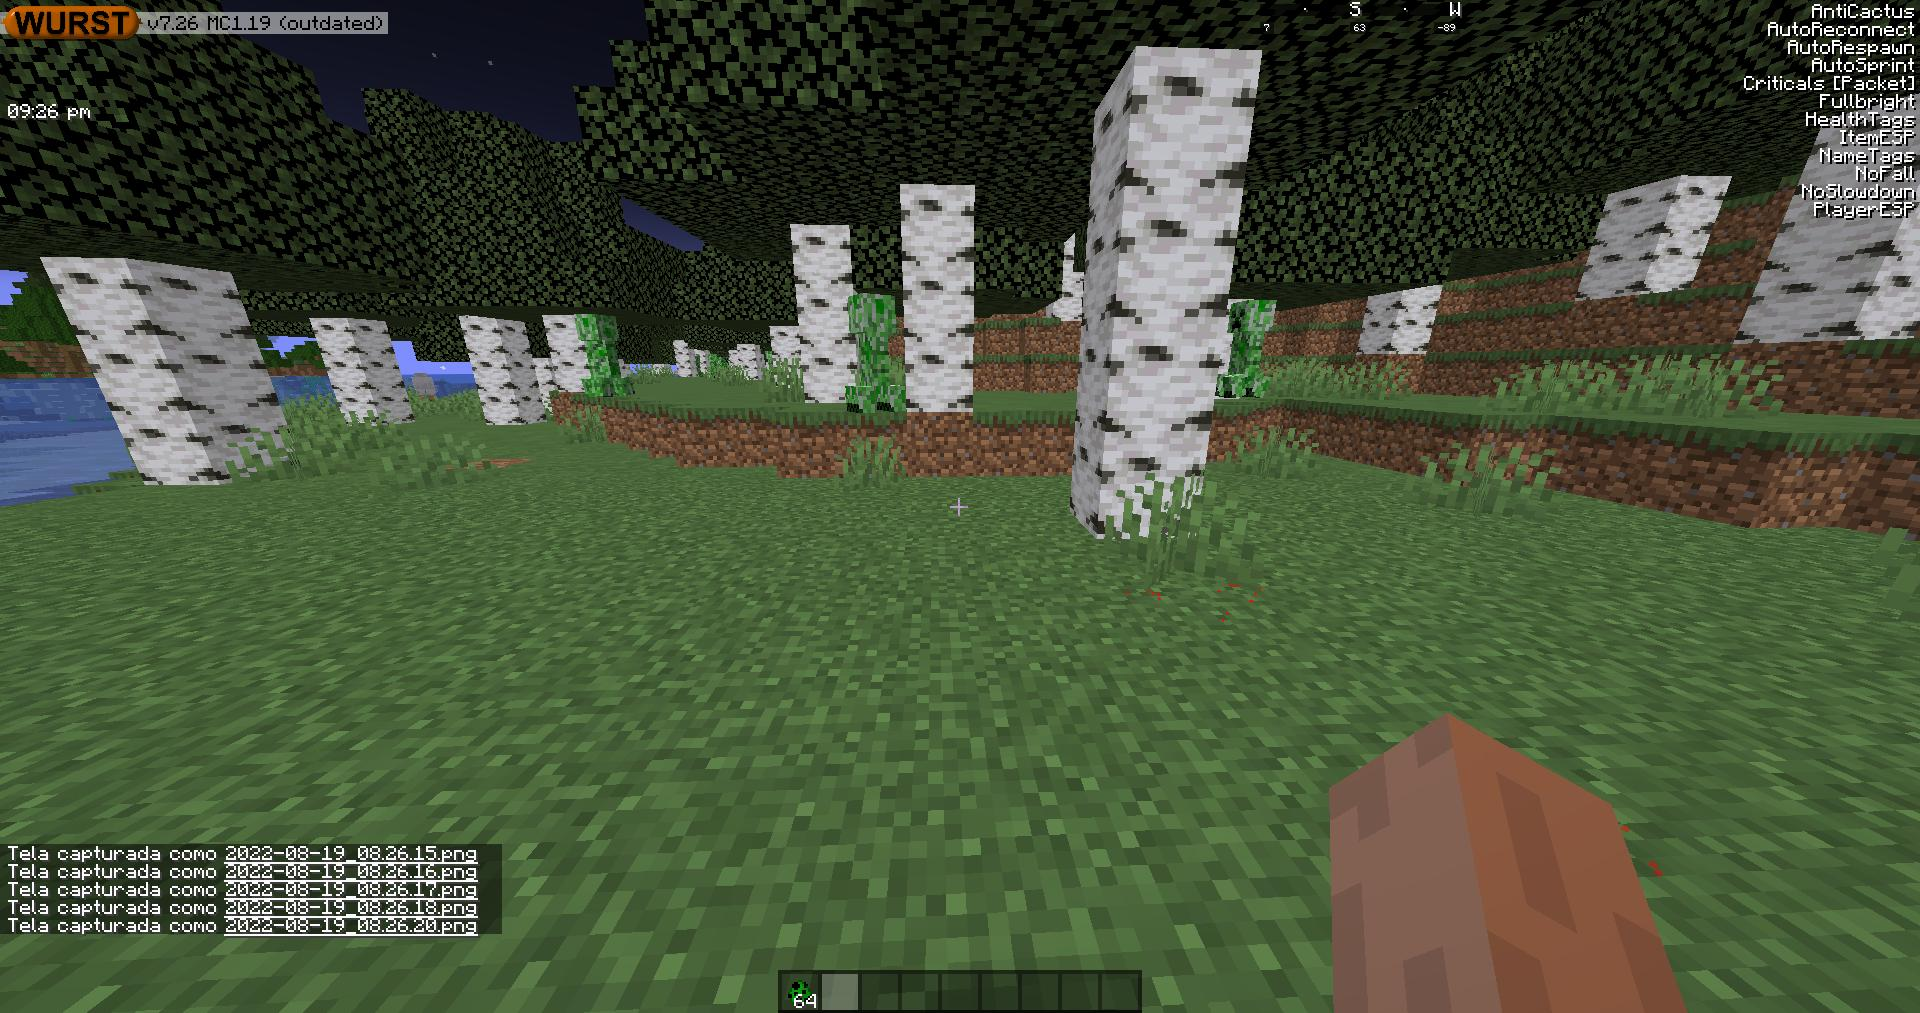creeper: (841, 295, 902, 410), (569, 312, 629, 397), (1227, 298, 1272, 399)
